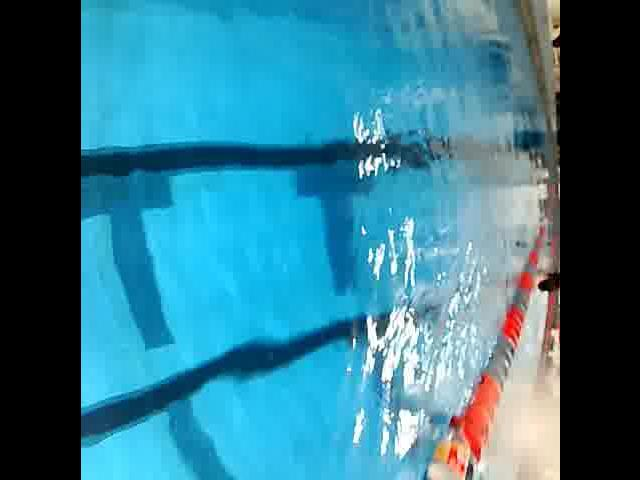Bottle: (400, 409, 484, 480)
